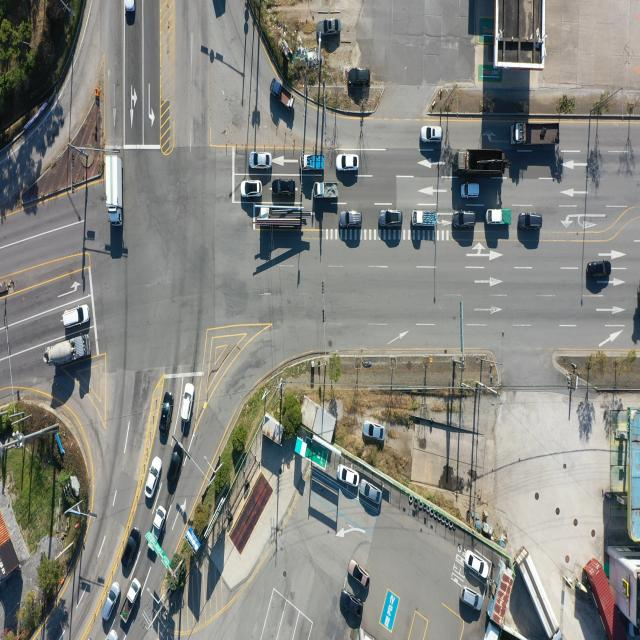car: (342, 586, 365, 623), (123, 528, 142, 572), (144, 456, 162, 499), (101, 582, 120, 622), (467, 551, 492, 581), (167, 445, 183, 491), (62, 305, 91, 330), (360, 480, 383, 506), (350, 560, 370, 589), (181, 382, 194, 422), (316, 18, 342, 38), (338, 464, 361, 486), (162, 392, 174, 434), (464, 585, 484, 610), (362, 421, 385, 442), (588, 262, 612, 280), (421, 126, 444, 144), (378, 210, 401, 228), (340, 210, 363, 228), (521, 213, 545, 230), (349, 67, 371, 85), (456, 211, 478, 229), (274, 179, 297, 196), (242, 180, 263, 198), (354, 62, 375, 80), (337, 156, 360, 172), (252, 151, 273, 168), (459, 183, 479, 198), (124, 0, 136, 16), (108, 627, 119, 640)
medium_truck: (517, 542, 562, 637), (45, 334, 90, 368), (455, 146, 507, 172), (514, 124, 563, 150), (108, 156, 125, 228), (260, 203, 305, 230)
small_truck: (121, 580, 142, 626), (149, 503, 167, 552), (270, 79, 294, 113), (486, 208, 512, 226), (316, 184, 342, 202), (413, 210, 438, 228), (303, 156, 326, 173)
